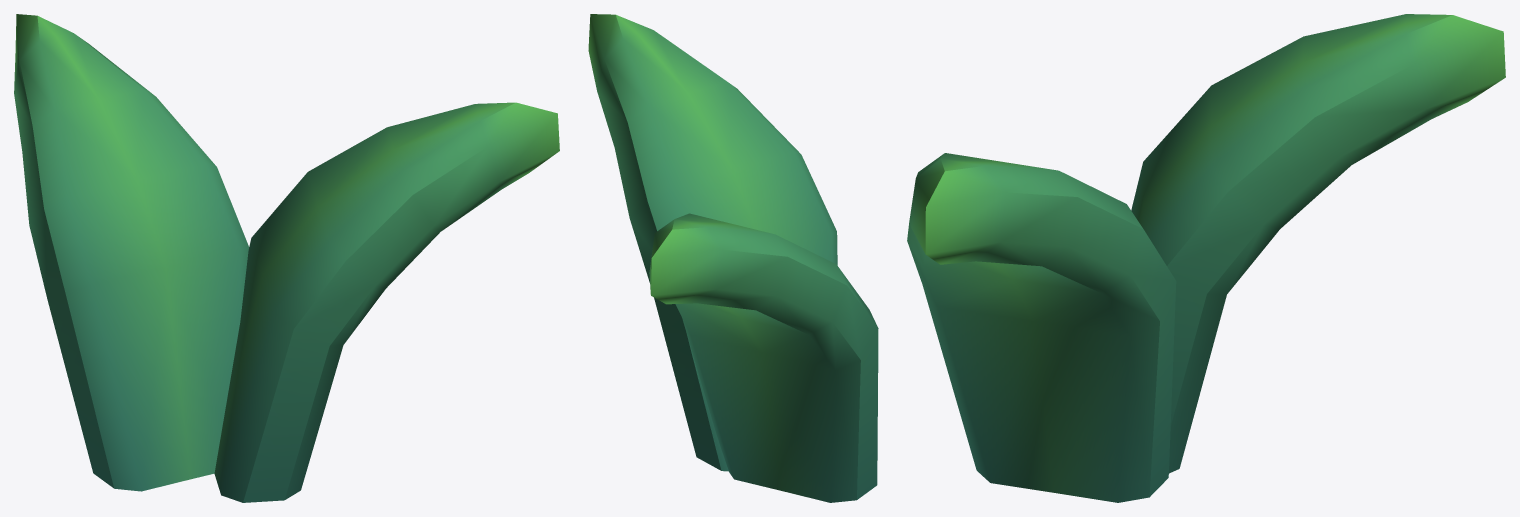
Rendered from Grass B.glb.
3 renders of one model, left to right at view 1: azimuth 30°, elevation 25°; view 2: azimuth 150°, elevation 25°; view 3: azimuth 270°, elevation 25°, orthographic. The views are drawn at different scales.
Parts seen in each view (by area): view 1: grass_B; view 2: grass_B; view 3: grass_B.
Part boxes in pixels (bbox=[...]): grass_B: bbox=[14, 14, 559, 502]; grass_B: bbox=[588, 14, 878, 502]; grass_B: bbox=[907, 14, 1505, 502].
Bounding box in the file's own units: 0.4744 × 0.4054 × 0.5138.
1 material, 1 textured.
